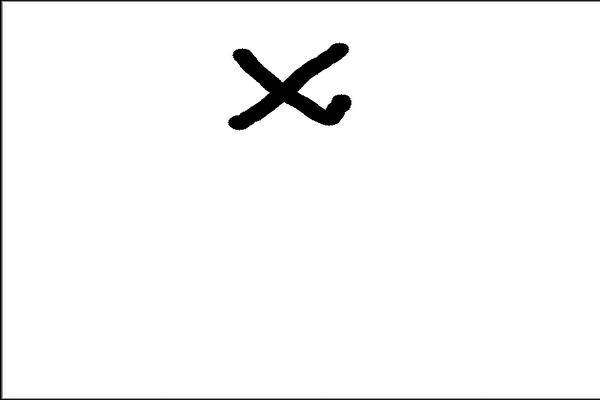X: (209, 27, 392, 163)
